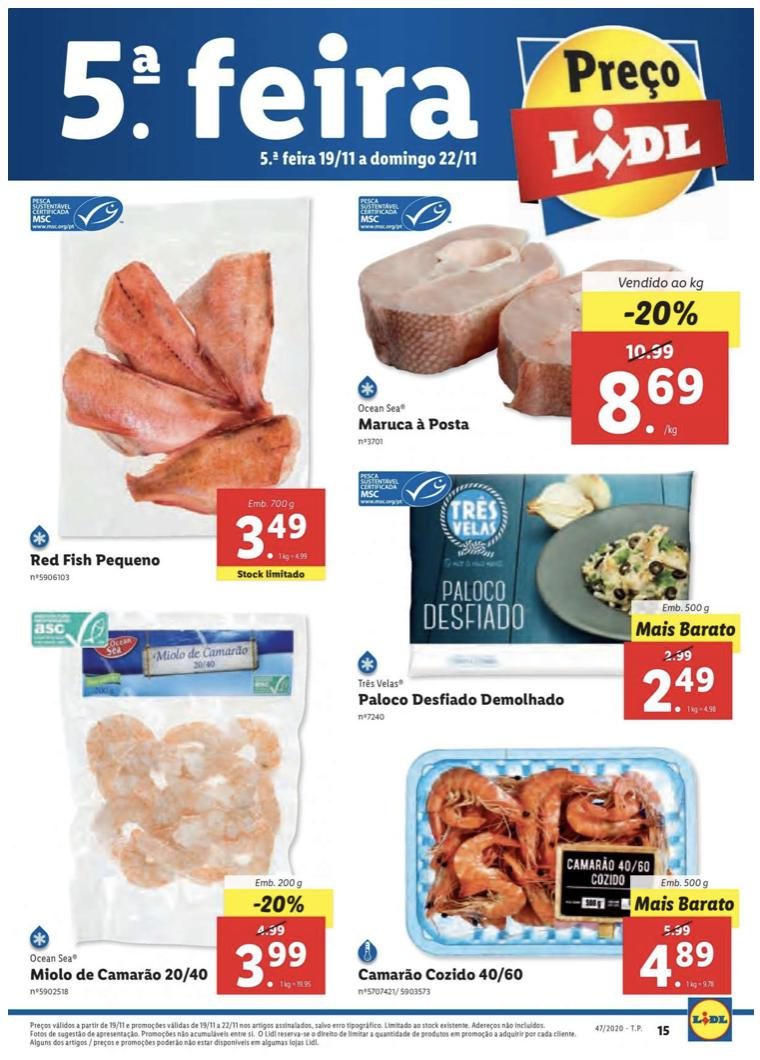name: (356, 688, 569, 713), (28, 961, 213, 986), (352, 964, 528, 985), (30, 548, 169, 572), (359, 414, 474, 436)
price: (595, 367, 707, 436), (234, 507, 315, 563), (228, 936, 313, 989), (639, 936, 714, 992), (642, 664, 724, 714)
product: (13, 180, 334, 596), (24, 614, 335, 1004), (340, 469, 756, 734), (342, 193, 757, 457), (347, 739, 745, 996)
promotion: (622, 292, 705, 330), (248, 889, 309, 915)
